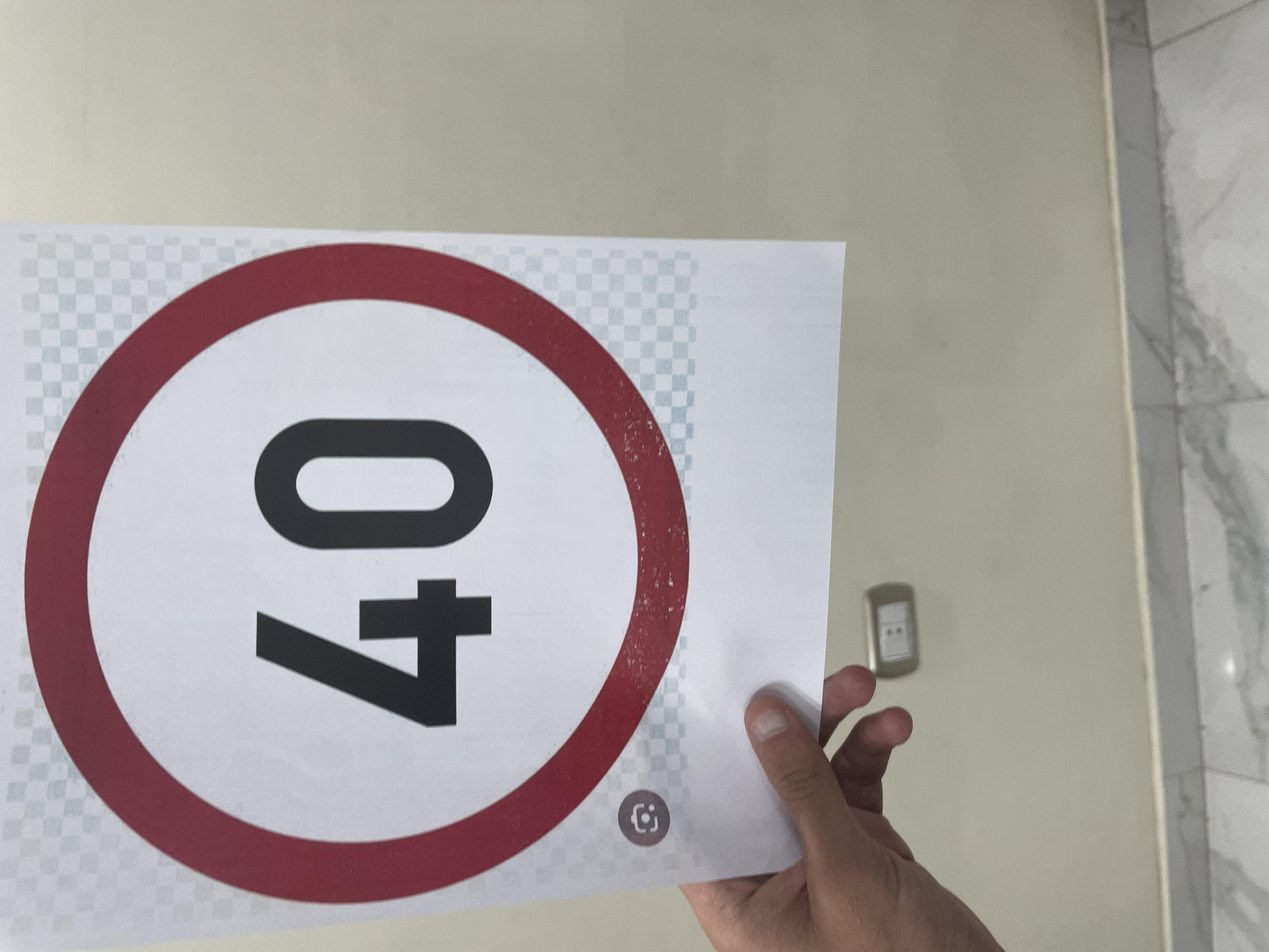40-Speed: (47, 19, 986, 521)
